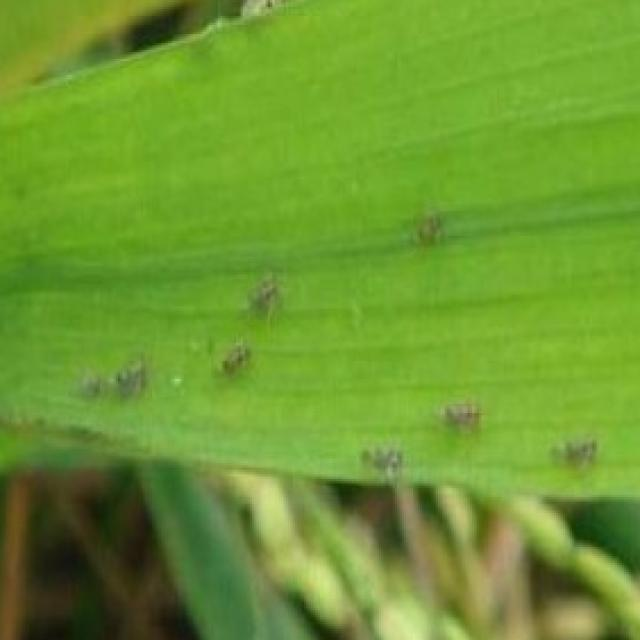brown plant hopper: (79, 356, 148, 397), (250, 275, 279, 318), (551, 438, 597, 465), (361, 447, 399, 474), (436, 404, 477, 429), (411, 213, 443, 245), (225, 340, 250, 374)
